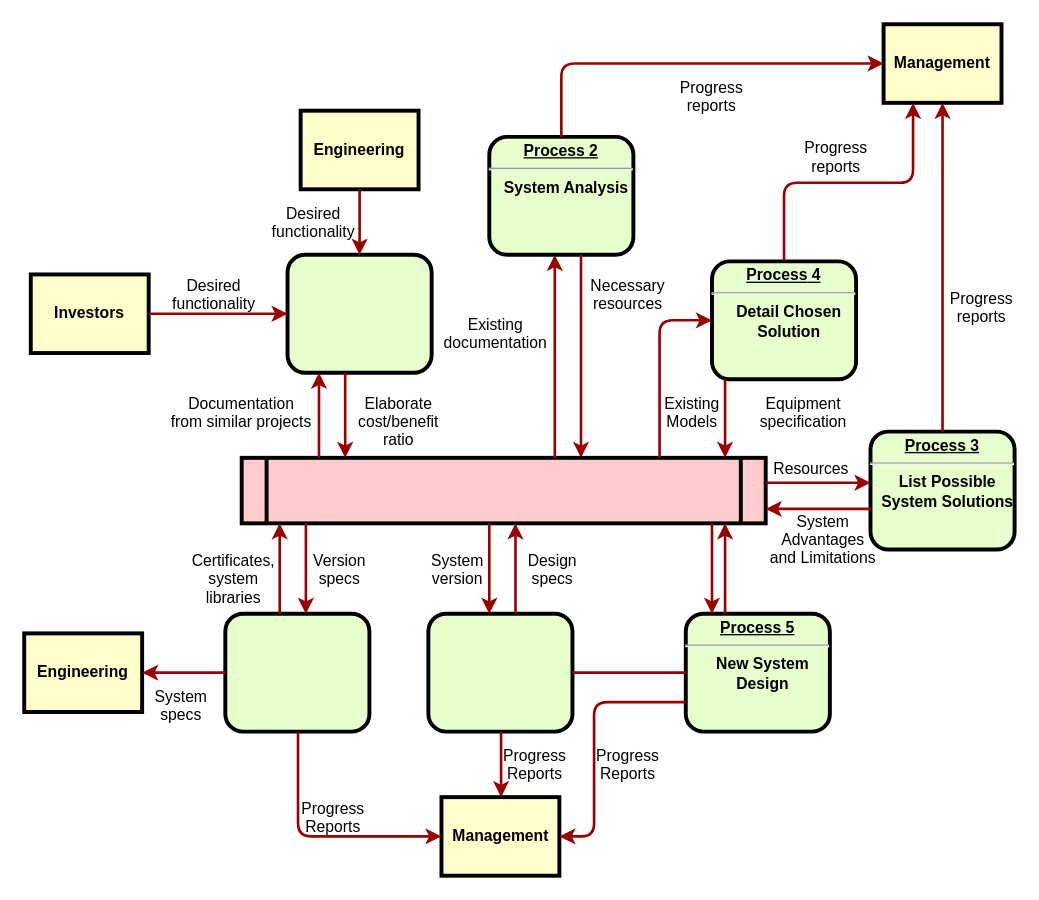
Image size: 1039x900. Some labels were removed from this diagram. Here are the shapes that lost their labels. From the top down, the centre of each, then its label:
At point 359,313: "Process 1 System Study Preparation".
At point 503,490: "ON-DEMAND SYSTEM DEVELOPMENT".
At point 297,672: "Process 6 New System Construction".
At point 500,672: "Process 7 New System Startup and Testing".
